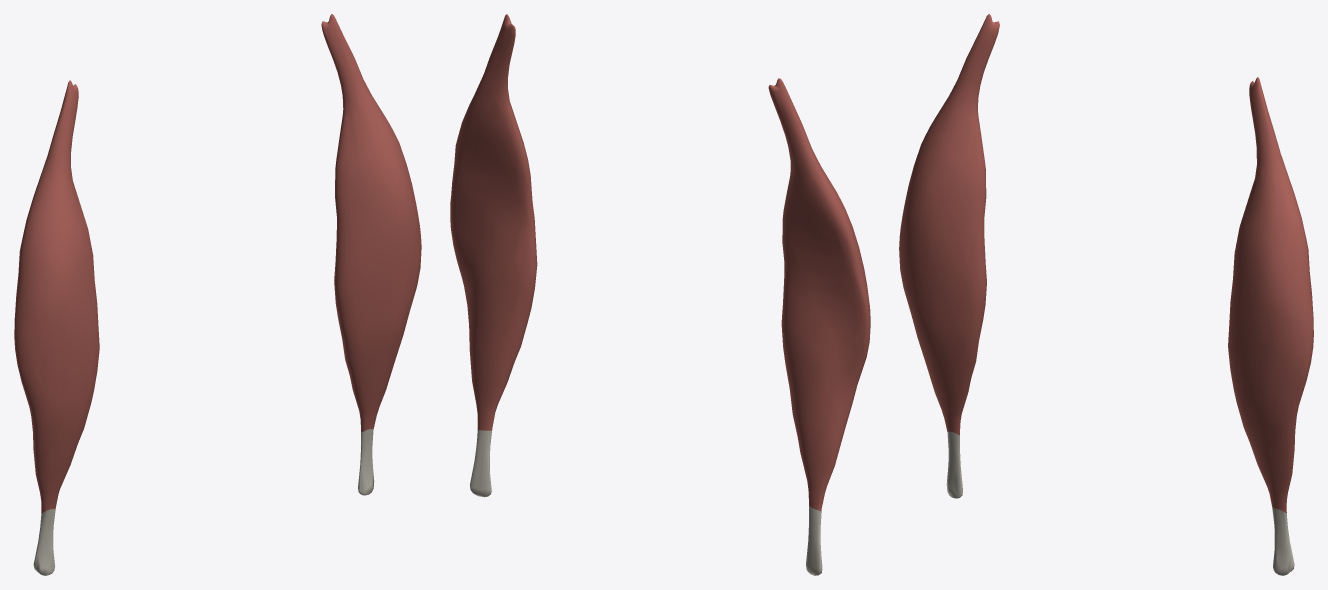
The model's file is adult_female.muscular.LOD2.glb.
3 views of the same model, side by side, from view 1: azimuth 30°, elevation 25°; view 2: azimuth 150°, elevation 25°; view 3: azimuth 330°, elevation 25° (orthographic). The views are drawn at different scales.
Parts seen in each view (by area): view 1: ADULT.FEMALE.MUSCULAR.RECTUS_FEMORIS.L, ADULT.FEMALE.MUSCULAR.RECTUS_FEMORIS.R, ADULT.FEMALE.MUSCULAR.TENDON_OF_QUADRICEPS_FEMORIS.R, ADULT.FEMALE.MUSCULAR.TENDON_OF_QUADRICEPS_FEMORIS.L; view 2: ADULT.FEMALE.MUSCULAR.RECTUS_FEMORIS.R, ADULT.FEMALE.MUSCULAR.RECTUS_FEMORIS.L, ADULT.FEMALE.MUSCULAR.TENDON_OF_QUADRICEPS_FEMORIS.L, ADULT.FEMALE.MUSCULAR.TENDON_OF_QUADRICEPS_FEMORIS.R; view 3: ADULT.FEMALE.MUSCULAR.RECTUS_FEMORIS.R, ADULT.FEMALE.MUSCULAR.RECTUS_FEMORIS.L, ADULT.FEMALE.MUSCULAR.TENDON_OF_QUADRICEPS_FEMORIS.L, ADULT.FEMALE.MUSCULAR.TENDON_OF_QUADRICEPS_FEMORIS.R.
Part boxes in pixels (left/top/right/bottom): ADULT.FEMALE.MUSCULAR.RECTUS_FEMORIS.L: left=321, top=14, right=421, bottom=432; ADULT.FEMALE.MUSCULAR.RECTUS_FEMORIS.R: left=14, top=80, right=99, bottom=513; ADULT.FEMALE.MUSCULAR.TENDON_OF_QUADRICEPS_FEMORIS.R: left=33, top=509, right=55, bottom=575; ADULT.FEMALE.MUSCULAR.TENDON_OF_QUADRICEPS_FEMORIS.L: left=358, top=429, right=374, bottom=495; ADULT.FEMALE.MUSCULAR.RECTUS_FEMORIS.R: left=768, top=78, right=870, bottom=511; ADULT.FEMALE.MUSCULAR.RECTUS_FEMORIS.L: left=450, top=14, right=537, bottom=430; ADULT.FEMALE.MUSCULAR.TENDON_OF_QUADRICEPS_FEMORIS.L: left=470, top=430, right=492, bottom=497; ADULT.FEMALE.MUSCULAR.TENDON_OF_QUADRICEPS_FEMORIS.R: left=806, top=506, right=822, bottom=575; ADULT.FEMALE.MUSCULAR.RECTUS_FEMORIS.R: left=899, top=14, right=999, bottom=435; ADULT.FEMALE.MUSCULAR.RECTUS_FEMORIS.L: left=1228, top=77, right=1313, bottom=512; ADULT.FEMALE.MUSCULAR.TENDON_OF_QUADRICEPS_FEMORIS.L: left=1272, top=508, right=1294, bottom=575; ADULT.FEMALE.MUSCULAR.TENDON_OF_QUADRICEPS_FEMORIS.R: left=946, top=431, right=962, bottom=498.
Size of the model in its own units: 0.3555 by 0.4035 by 0.0508.
